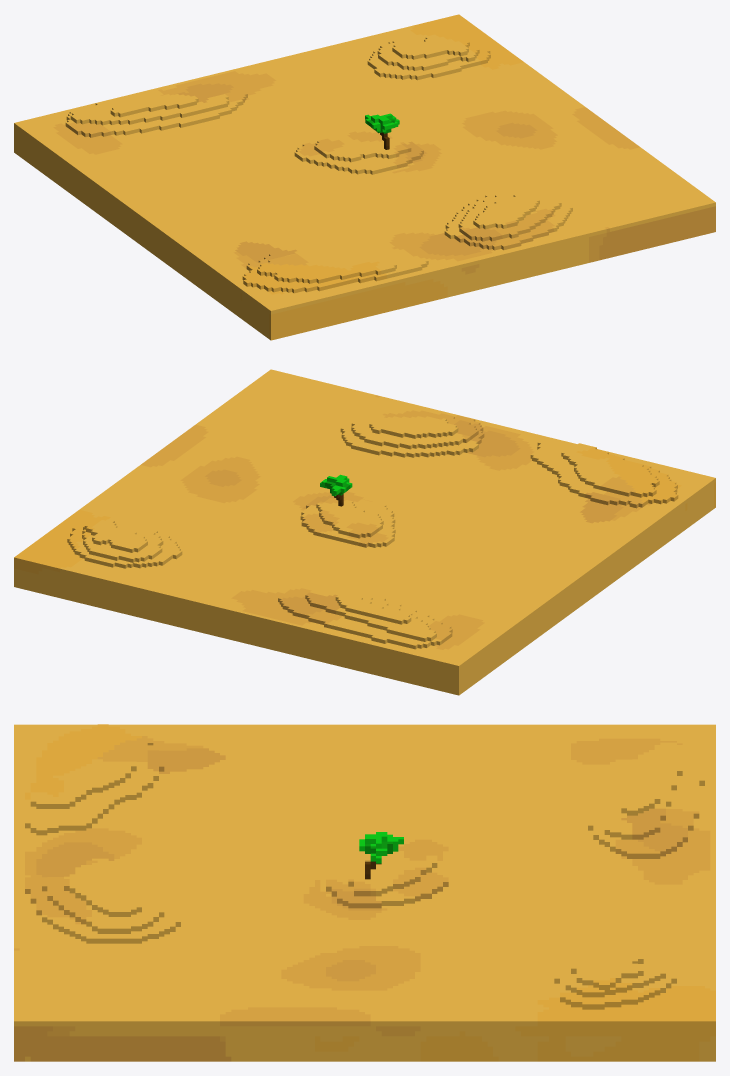
The model's file is Egypt-2.obj.
3 renders of one model, top to bottom at view 1: azimuth 30°, elevation 25°; view 2: azimuth 150°, elevation 25°; view 3: azimuth 270°, elevation 25°, orthographic. The views are drawn at different scales.
Size of the model in its own units: 12.6 by 1.8 by 12.6.
1 material, 1 textured.
